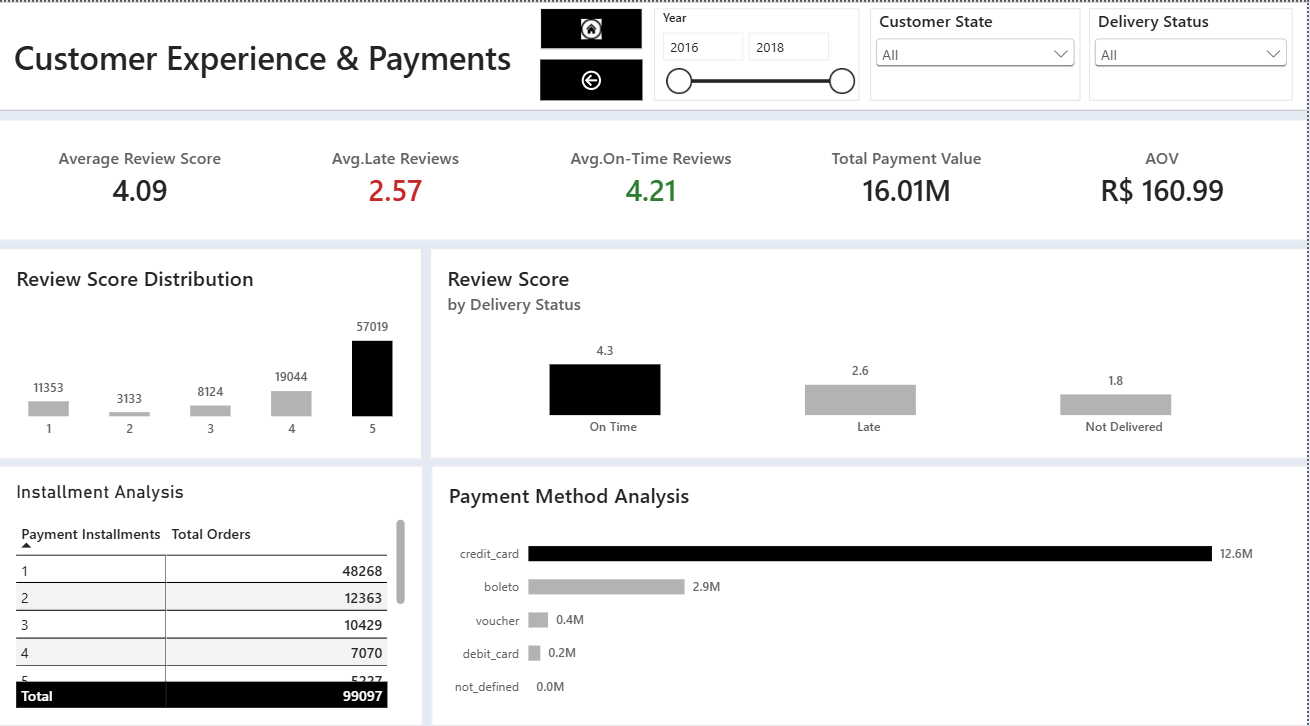

Layout of this report page (visuals, bound fields, positions):
{"tool":"powerbi","page":{"name":"Page 5","canvas":[1280,720],"ordinal":4},"visuals":[{"type":"shape","box":[0,0,1280.3,106.4],"z":0},{"type":"cardVisual","fields":{"Data":["KPIS.Average Review Score","KPIS.Average Review Score — Late","KPIS.Average Review Score — On Time","KPIS.Total Payment Value","KPIS.Average Order Value"]},"box":[0,114.9,1280.3,118.6],"z":1000},{"type":"clusteredColumnChart","title":"Review Score Distribution","fields":{"Category":["FactOrders.review_score"],"Y":["KPIS.Total Orders"]},"box":[0,241.4,414,206.2],"z":2000},{"type":"pivotTable","title":"Installment Analysis","fields":{"Rows":["FactOrders.payment_installments"],"Values":["KPIS.Total Orders"]},"box":[0,453.7,414.6,254.2],"z":3000},{"type":"clusteredColumnChart","title":"Review Score","fields":{"Category":["FactOrders.delivery_status"],"Y":["KPIS.Average Review Score"]},"box":[421.9,240.9,858.4,205.4],"z":4000},{"type":"slicer","fields":{"Values":["DimDate.Year"]},"box":[640.8,6.1,200.5,90.5],"z":5000},{"type":"slicer","fields":{"Values":["DimCustomer.customer_state"]},"box":[852.3,6.1,205.4,90.5],"z":6000},{"type":"slicer","title":"Category  Name","fields":{"Values":["FactOrders.delivery_status"]},"box":[1066.3,6.1,199.3,90.5],"z":7000},{"type":"textbox","box":[14.3,31.3,498,65.2],"z":8000},{"type":"clusteredBarChart","title":"Payment Method Analysis","fields":{"Category":["FactOrders.payment_type"],"Y":["KPIS.Total Payment Value"]},"box":[423.1,453.7,857.2,254.3],"z":9000},{"type":"actionButton","box":[529.3,56.1,100,40],"z":10000},{"type":"actionButton","box":[529.3,6.5,100.4,40.4],"z":11000}]}

Visuals, with their boxes in screenshot pixels (x1, y1, x2, y2), scaled from the page's 1280x720 canvas onto the 1310x726 screenshot:
shape: (x1=0, y1=0, x2=1309, y2=107)
cardVisual - KPIS.Average Review Score x KPIS.Average Review Score — Late: (x1=0, y1=116, x2=1309, y2=235)
"Review Score Distribution" clusteredColumnChart: (x1=0, y1=243, x2=424, y2=451)
"Installment Analysis" pivotTable: (x1=0, y1=457, x2=424, y2=714)
"Review Score" clusteredColumnChart: (x1=432, y1=243, x2=1309, y2=450)
slicer - DimDate.Year: (x1=656, y1=6, x2=861, y2=97)
slicer - DimCustomer.customer_state: (x1=872, y1=6, x2=1082, y2=97)
"Category  Name" slicer: (x1=1091, y1=6, x2=1295, y2=97)
textbox: (x1=15, y1=32, x2=524, y2=97)
"Payment Method Analysis" clusteredBarChart: (x1=433, y1=457, x2=1309, y2=714)
actionButton: (x1=542, y1=57, x2=644, y2=97)
actionButton: (x1=542, y1=7, x2=644, y2=47)
